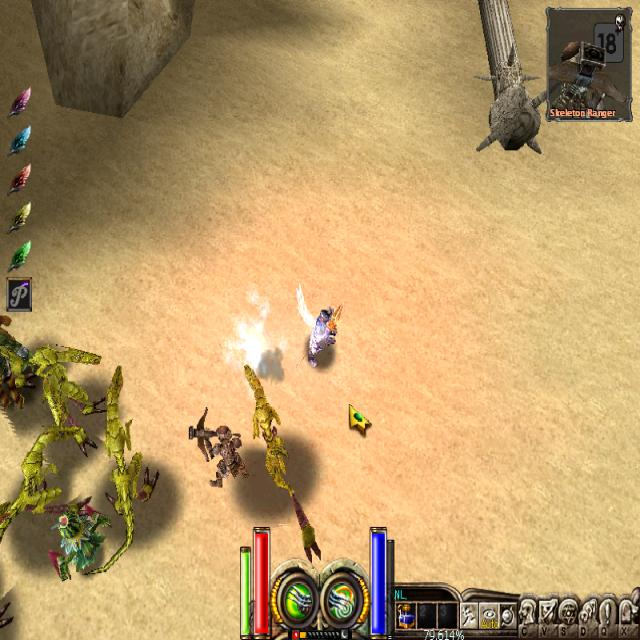monster: (242, 367, 314, 514), (102, 377, 159, 537), (39, 345, 109, 450), (177, 404, 248, 488), (7, 428, 63, 517), (59, 492, 110, 586)
